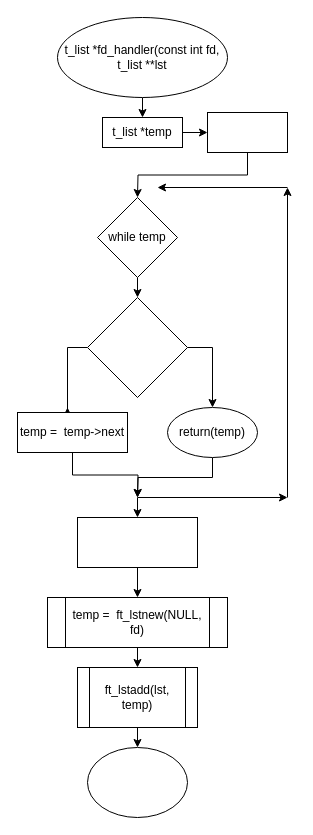
Some shapes in this 313 by 835 pixel diagram are drawn without their labels. Each missing label, with the centre of its shape:
"(int)temp->content_size == fd" belongs at point (137, 347).
"return (temp)" belongs at point (137, 782).
"temp = *lst" belongs at point (247, 132).
"temp->content_size = fd" belongs at point (137, 542).
